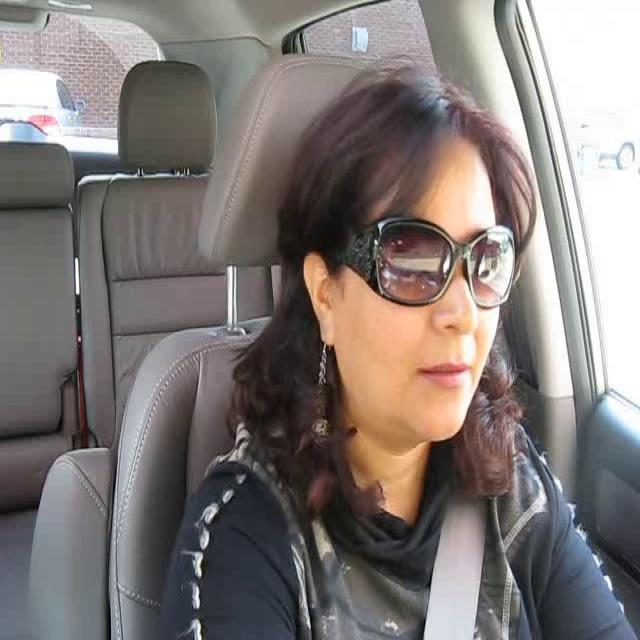close: (414, 349, 475, 393)
